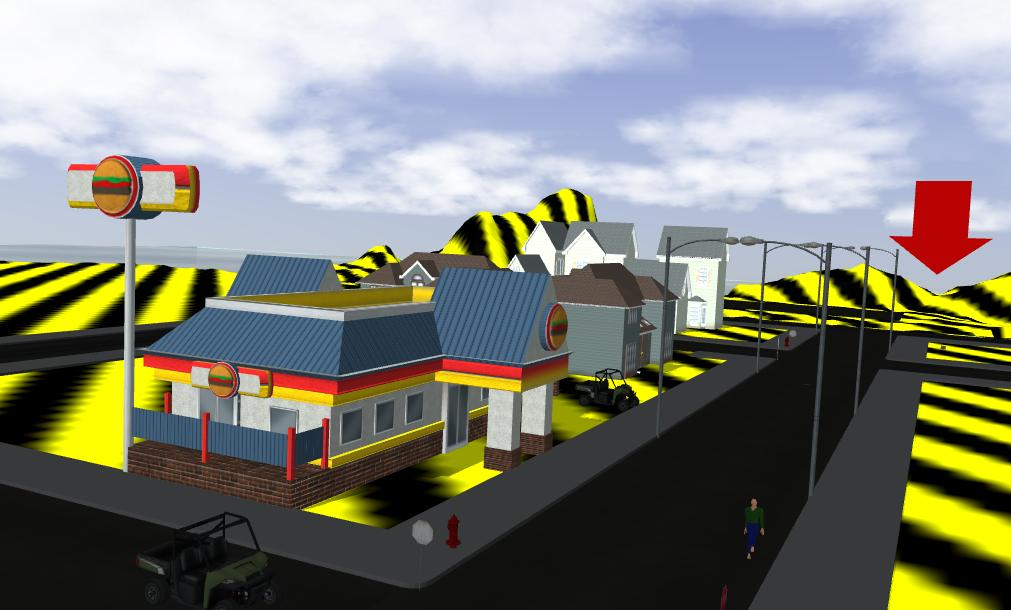car: (142, 507, 280, 605), (583, 367, 642, 415)
fire hydrant: (447, 507, 469, 557)
human: (741, 494, 773, 561)
street light: (737, 225, 827, 499), (773, 237, 872, 419), (660, 223, 727, 417), (839, 241, 901, 367)
street sign: (410, 514, 433, 578)
